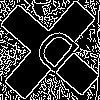D: (25, 25, 82, 83)
